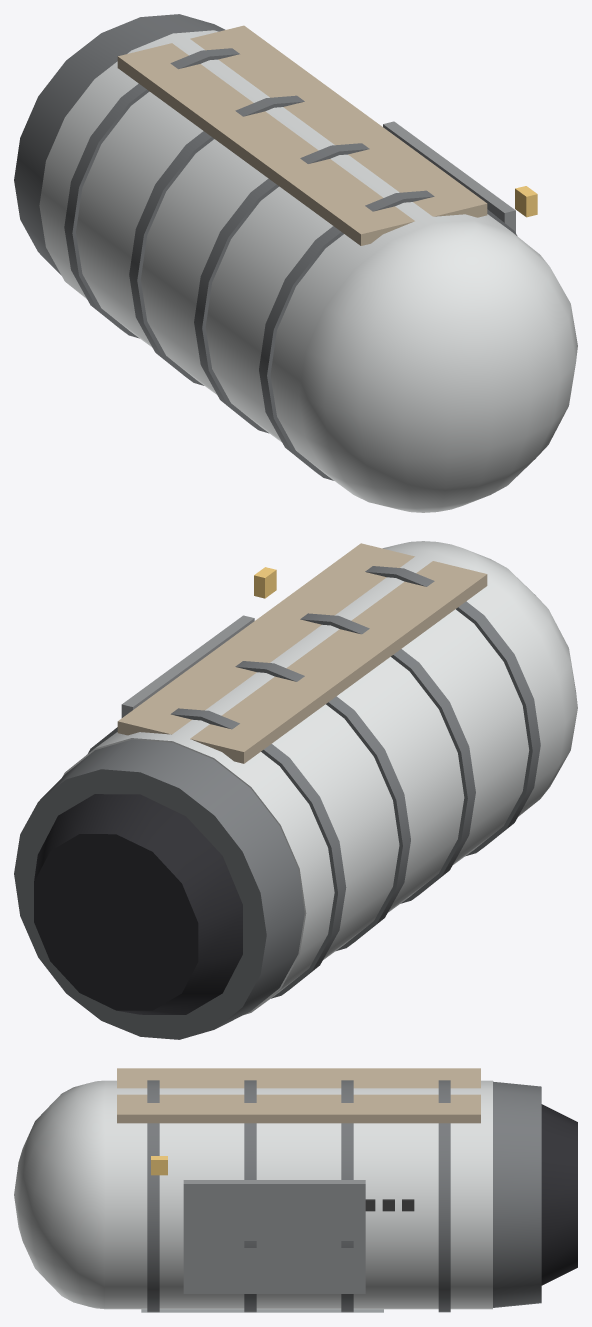
Rendered from ring_capsule.glb.
The picture shows the model from 3 angles, top to bottom: view 1: azimuth 30°, elevation 25°; view 2: azimuth 150°, elevation 25°; view 3: azimuth 270°, elevation 25°; orthographic projection. The views are drawn at different scales.
Visible parts, largest first — view 1: cap_hull.001, cap_hull, cap_dust, cap_rib, cap_rib.004, cap_rib.001, cap_rib.002, cap_rib.003, cap_hatch; view 2: cap_hull, cap_dark, cap_rib, cap_dust, cap_hull.001, cap_rib.001, cap_rib.003, cap_rib.004, cap_rib.002, cap_hatch; view 3: cap_hull, cap_hatch, cap_dust, cap_hull.001, cap_rib, cap_dark, cap_rib.001, cap_rib.004, cap_rib.002, cap_rib.003, cap_rime, glow.
Boxes of the visible parts, <box> form: cap_hull.001: <box>299,220,577,512</box>; cap_hull: <box>39,30,509,492</box>; cap_dust: <box>117,25,487,245</box>; cap_rib: <box>14,14,225,275</box>; cap_rib.004: <box>259,190,517,480</box>; cap_rib.001: <box>64,48,239,338</box>; cap_rib.002: <box>129,95,304,385</box>; cap_rib.003: <box>194,143,369,433</box>; cap_hatch: <box>383,121,515,232</box>; cap_hull: <box>62,548,565,1014</box>; cap_dark: <box>34,794,242,1014</box>; cap_rib: <box>14,739,304,1039</box>; cap_dust: <box>117,543,487,763</box>; cap_hull.001: <box>382,541,577,797</box>; cap_rib.001: <box>88,708,346,998</box>; cap_rib.003: <box>300,613,475,903</box>; cap_rib.004: <box>365,566,540,856</box>; cap_rib.002: <box>235,661,410,950</box>; cap_hatch: <box>121,615,254,717</box>; cap_hull: <box>105,1080,492,1309</box>; cap_hatch: <box>183,1180,365,1293</box>; cap_dust: <box>117,1068,480,1123</box>; cap_hull.001: <box>14,1080,104,1309</box>; cap_rib: <box>493,1081,541,1307</box>; cap_dark: <box>541,1104,577,1285</box>; cap_rib.001: <box>438,1080,450,1312</box>; cap_rib.004: <box>147,1080,159,1312</box>; cap_rib.002: <box>341,1080,353,1312</box>; cap_rib.003: <box>244,1080,256,1312</box>; cap_rime: <box>141,1309,383,1312</box>; glow: <box>151,1156,167,1175</box>.
Size of the model in its own units: 1.95 by 1.95 by 4.65.
